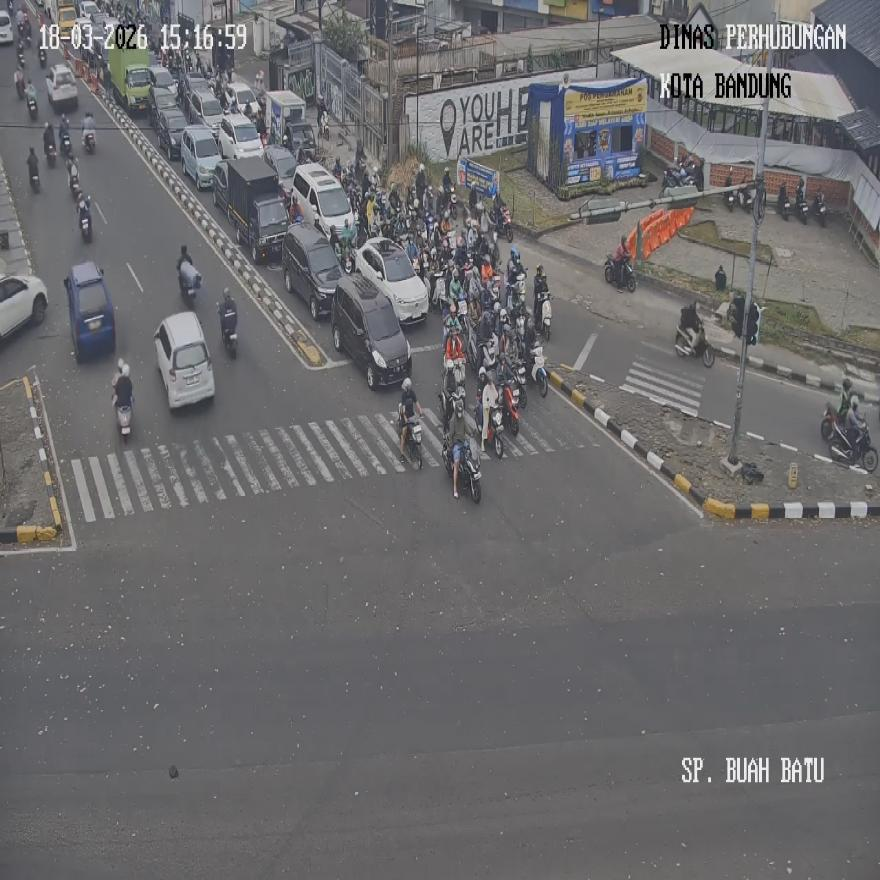Motor: (332, 272, 413, 388), (356, 238, 427, 325), (153, 310, 216, 408), (282, 224, 344, 320), (62, 262, 116, 362)
Truk: (820, 403, 877, 473), (674, 324, 714, 368), (454, 444, 482, 504), (398, 411, 424, 470), (482, 402, 505, 457), (604, 253, 636, 291), (216, 298, 236, 358), (113, 378, 132, 440), (528, 341, 548, 397), (500, 380, 520, 435), (177, 259, 200, 304), (491, 199, 512, 240), (536, 293, 552, 341), (26, 147, 41, 193), (42, 121, 56, 166), (430, 270, 446, 309), (59, 114, 72, 160), (78, 196, 90, 243), (724, 168, 736, 211), (69, 160, 82, 199), (740, 182, 756, 213), (813, 191, 826, 226), (341, 243, 355, 273), (778, 186, 790, 220), (82, 126, 95, 154), (27, 88, 38, 120), (15, 67, 26, 99), (797, 193, 808, 224), (319, 112, 330, 140), (37, 46, 47, 68)
